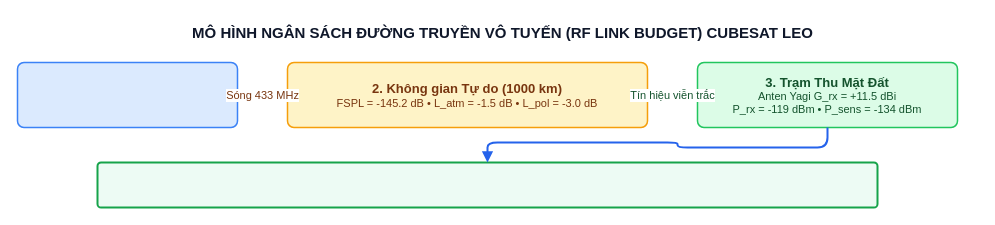
Some shapes in this 995 by 225 pixel diagram are drawn without their labels. The centre of each missing label's shape, as x and y in pixels:
"1. Máy Phát Vệ tinh P_tx = +20 dBm (100mW) Anten G_tx = +2 dBi" belongs at point (127, 94).
"Biên độ Dự phòng: Link Margin = P_rx - P_sens = +15 dB (ĐẠT CHUẨN > +10 dB)" belongs at point (487, 184).
